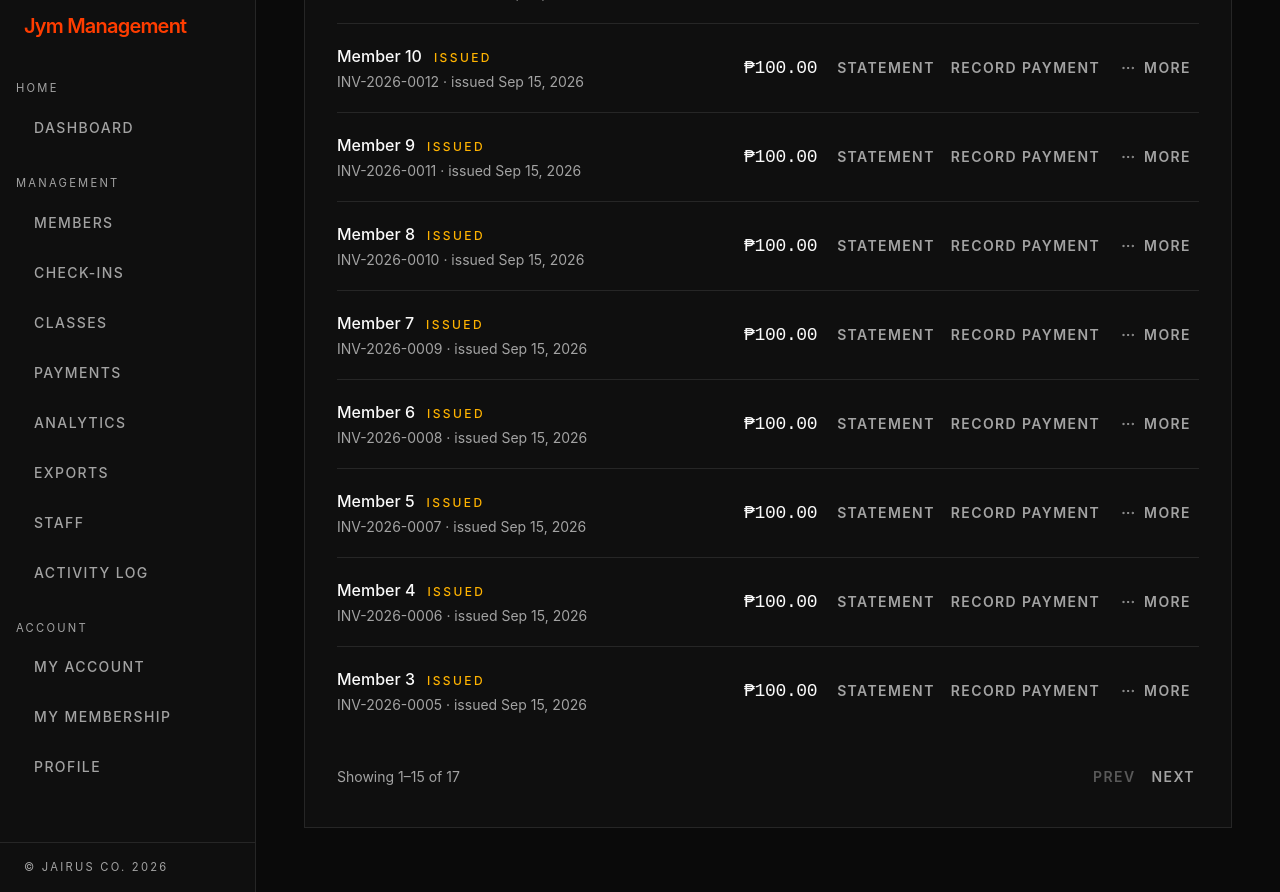
Scenario: PaymentsPage › paginates the invoice list
(page scrolled)
Check: the text "Showing 1–15 of 17" is shown, box x1=337 y1=767 x2=460 y2=787
Click the button "Next".
click(1173, 777)  # box x1=1148 y1=759 x2=1199 y2=795
(page scrolled)
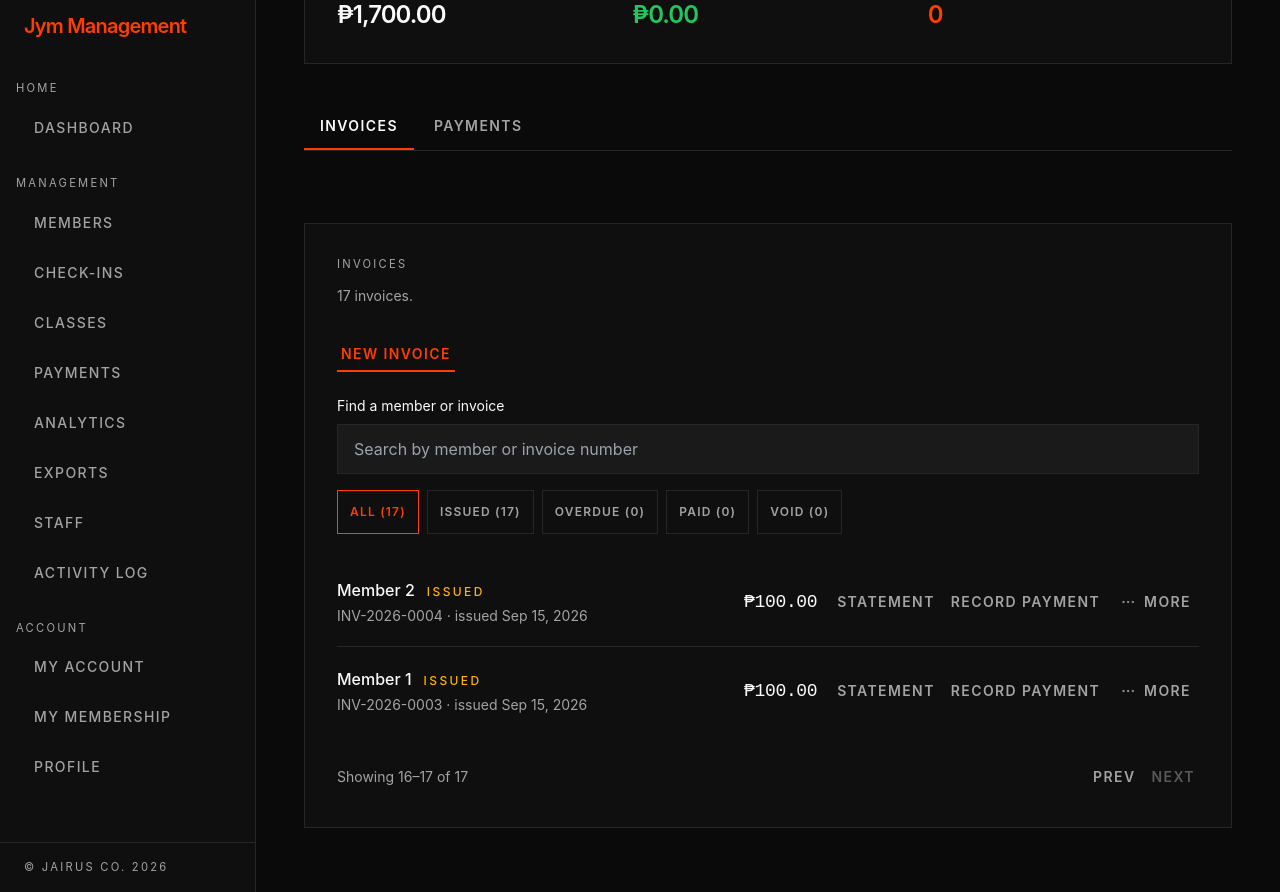
Check: the text "Showing 16–17 of 17" is shown, box x1=337 y1=767 x2=468 y2=787
Check: the button "Next" is disabled, box x1=1148 y1=759 x2=1199 y2=795
